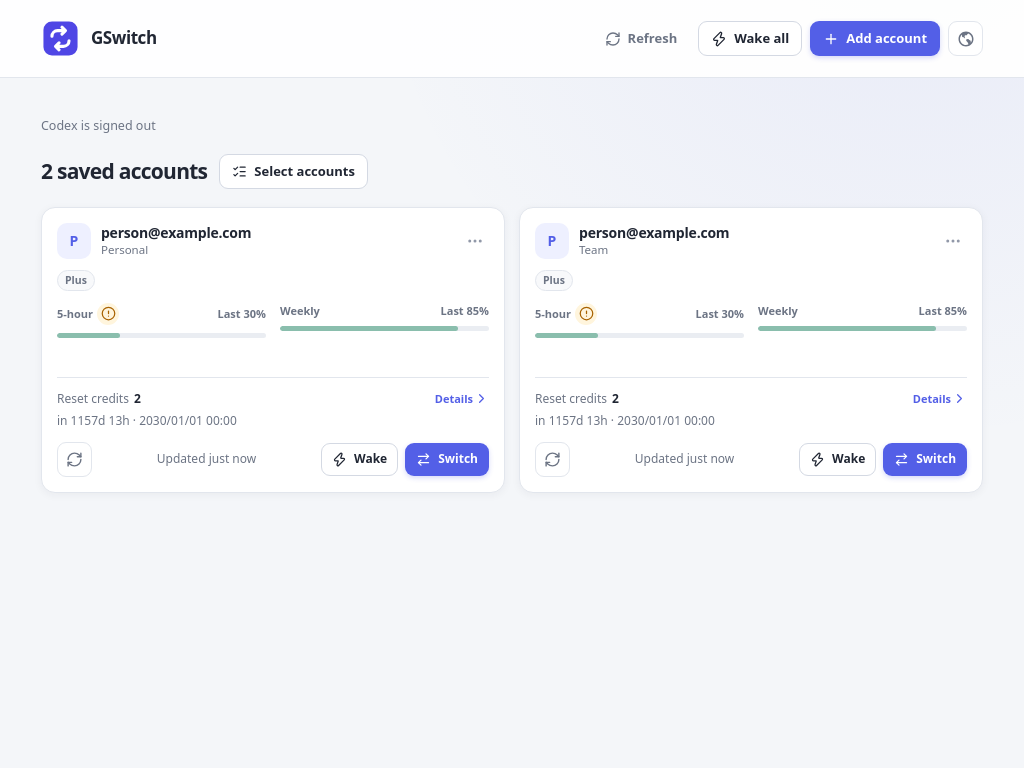
Test: GSwitch account workspace › adds the workspace to the reset title only when the email alone is ambiguous
Click the 1st button "Details". click: click(462, 398)
box: [435,391,489,406]
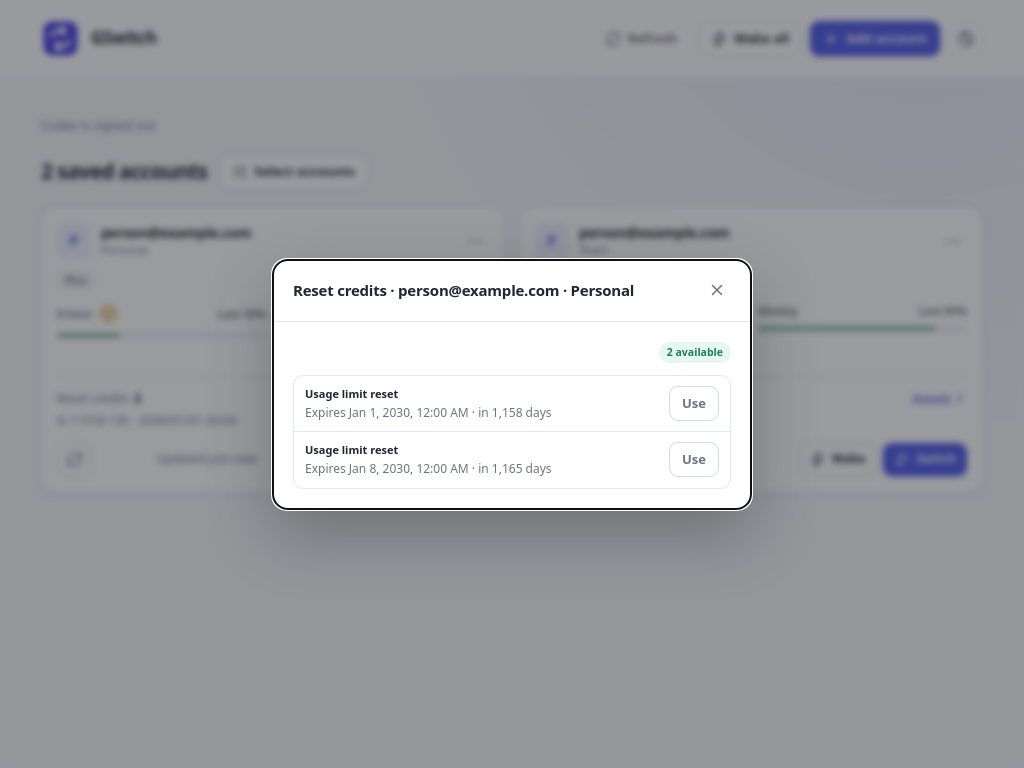
Expected: the dialog "Reset credits · person@example.com · Personal" is shown, [272,258,752,510]
